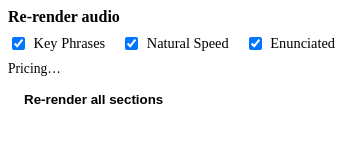
Test case: RerenderAudio › a stale estimate does not overwrite a newer one
The width and height of the screenshot is (352, 160).
Click the checkbox labelled "Enunciated".
click(255, 44)  # box 249,37 -> 262,50
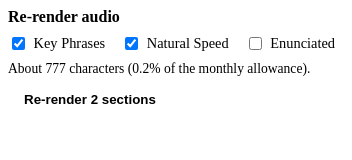
Now the text "About 777 characters (0.2% of the monthly allowance)." is shown, box 8,61 -> 310,76
